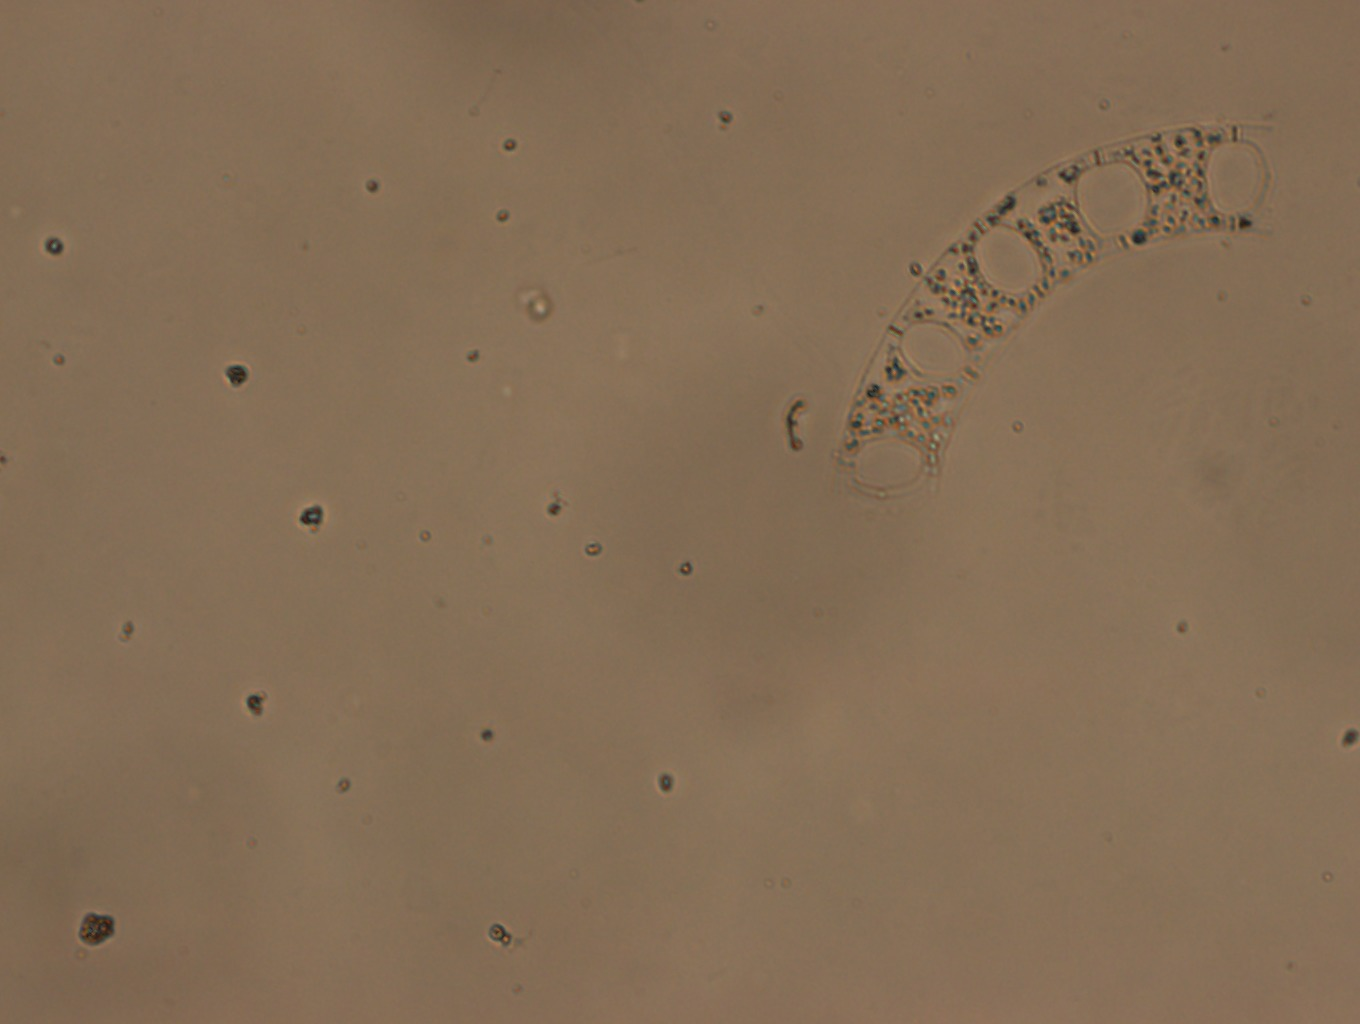eucampia: (824, 120, 1278, 501)
